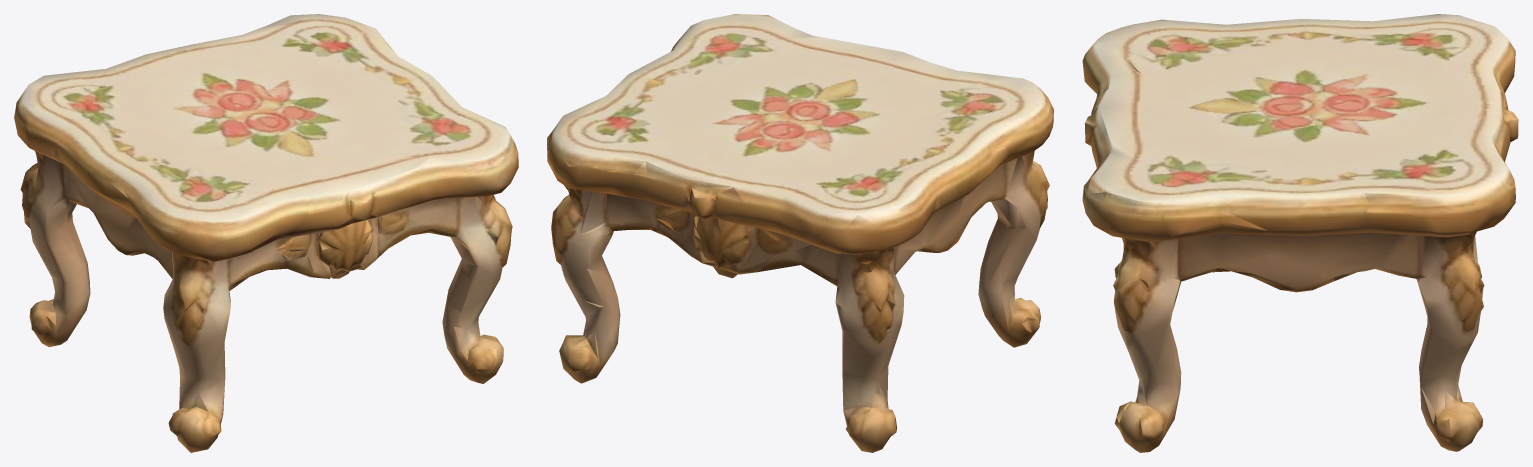
The model's file is table04.glb.
The picture shows the model from 3 angles, left to right: view 1: azimuth 30°, elevation 25°; view 2: azimuth 150°, elevation 25°; view 3: azimuth 270°, elevation 25°; orthographic projection. The views are drawn at different scales.
Bounding box in the file's own units: 0.2179 × 0.1449 × 0.2105.
Materials: 1 (1 with a texture image).
